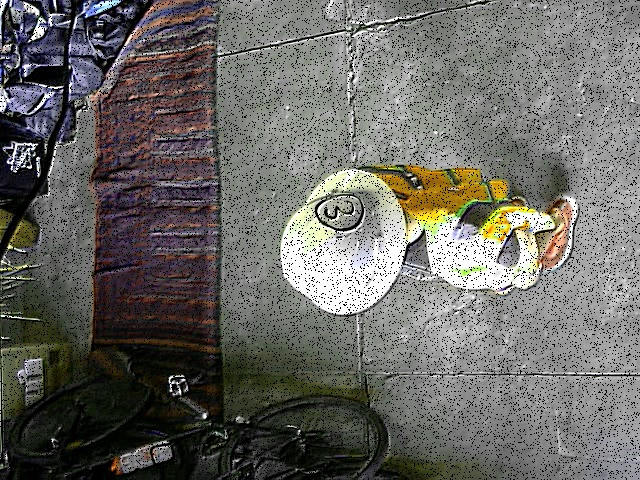three: (315, 194, 363, 232)
